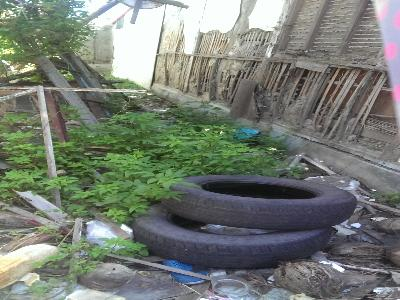tire: (132, 202, 338, 270), (165, 174, 359, 231)
